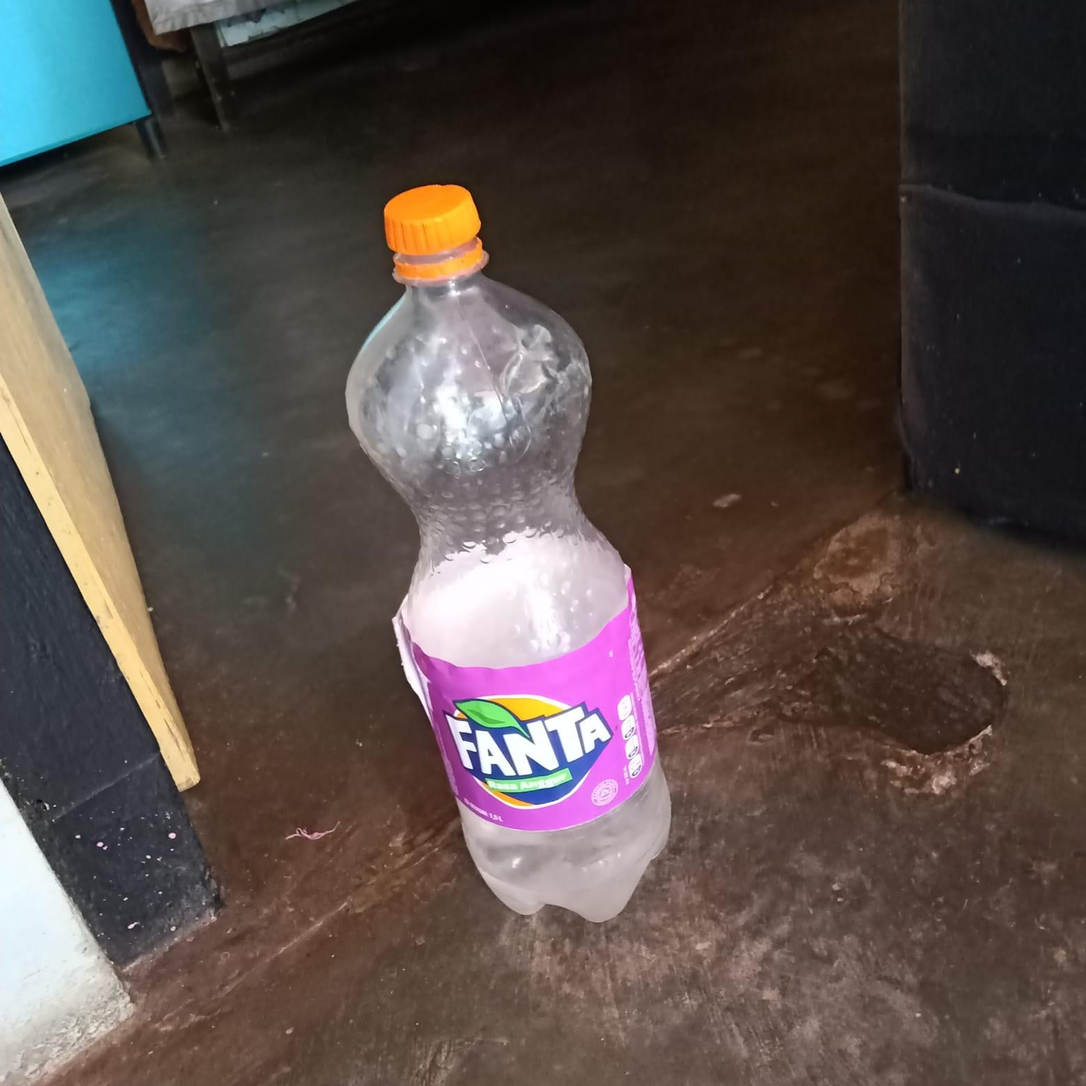Plastik: (343, 183, 673, 924)
